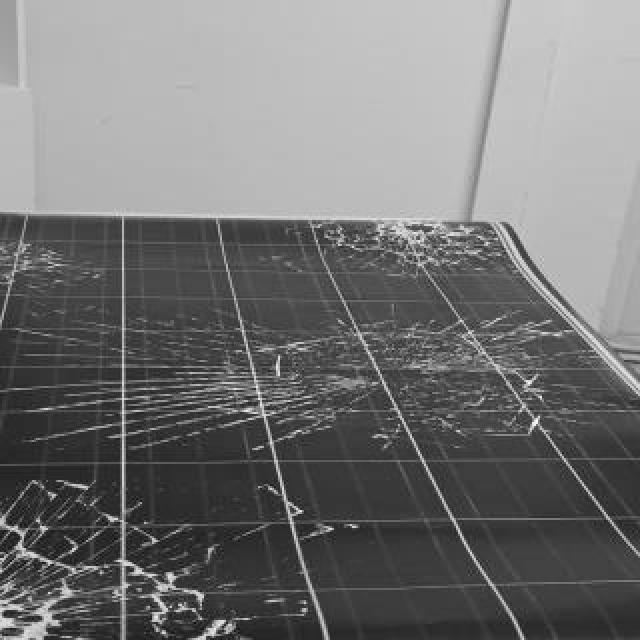Physical-damage: (2, 227, 511, 640)
